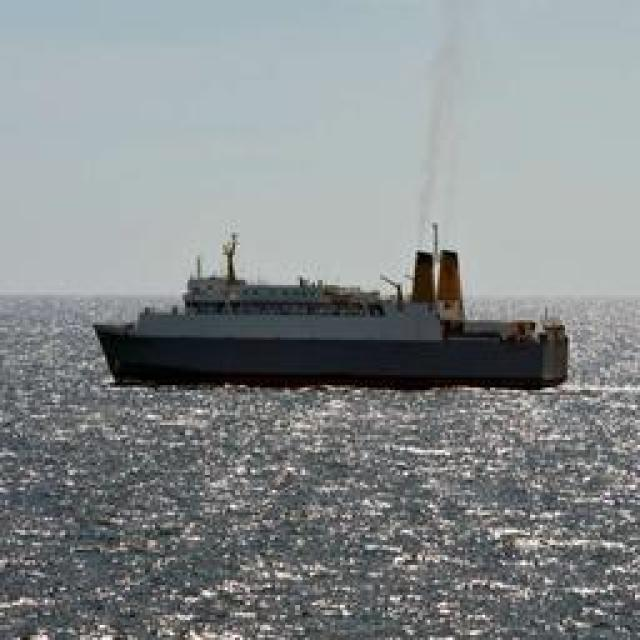ship2: (91, 219, 569, 391)
